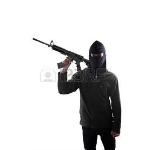Pistol: (32, 38, 90, 76)
